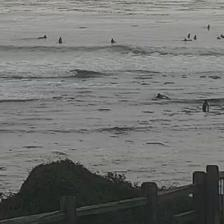surfer: (155, 93, 170, 99), (38, 35, 47, 39), (111, 38, 116, 44), (182, 38, 192, 41), (58, 37, 62, 44), (216, 36, 221, 40), (220, 34, 224, 39), (207, 24, 210, 30), (194, 35, 197, 40), (188, 34, 190, 38)
